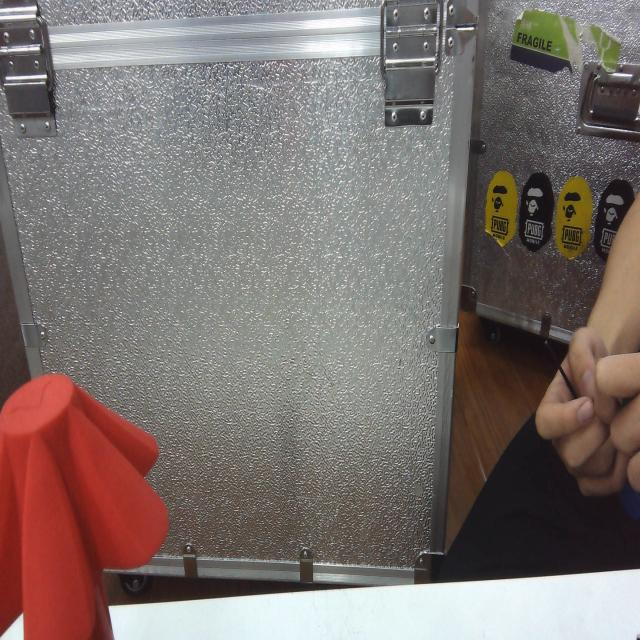zred-Stake-Head: (0, 373, 169, 637)
